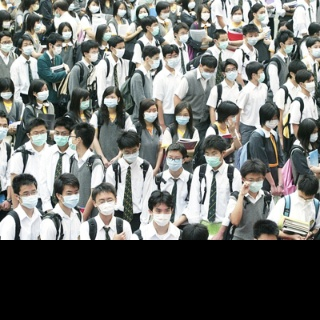with_mask: (151, 206, 172, 227), (19, 188, 39, 209), (61, 188, 80, 209), (97, 196, 115, 216), (204, 149, 222, 168), (244, 176, 264, 193), (52, 128, 69, 148), (165, 155, 183, 172), (122, 147, 140, 164), (31, 128, 47, 146), (142, 108, 159, 123), (264, 115, 280, 129), (175, 112, 191, 126), (296, 195, 314, 207), (35, 87, 49, 101), (103, 94, 117, 108), (302, 78, 316, 92), (225, 66, 238, 81), (166, 53, 179, 68), (21, 41, 34, 56), (246, 31, 259, 46), (78, 96, 91, 110), (68, 132, 77, 151), (308, 129, 319, 144), (201, 68, 216, 79), (114, 44, 125, 59), (178, 29, 189, 44), (217, 36, 228, 51), (224, 115, 236, 128), (0, 40, 12, 53), (149, 55, 160, 69), (200, 8, 211, 22), (0, 122, 8, 140), (0, 89, 13, 100), (88, 49, 99, 62), (52, 43, 63, 56), (283, 40, 294, 53), (102, 28, 112, 42), (256, 69, 265, 84), (61, 28, 72, 40), (232, 11, 243, 23), (88, 2, 100, 13), (151, 22, 160, 36), (116, 6, 127, 17), (160, 8, 170, 20), (312, 44, 320, 58), (1, 18, 11, 29), (256, 9, 266, 20), (138, 10, 148, 20), (32, 0, 40, 12), (188, 0, 196, 10), (34, 20, 41, 31), (52, 8, 60, 17)
